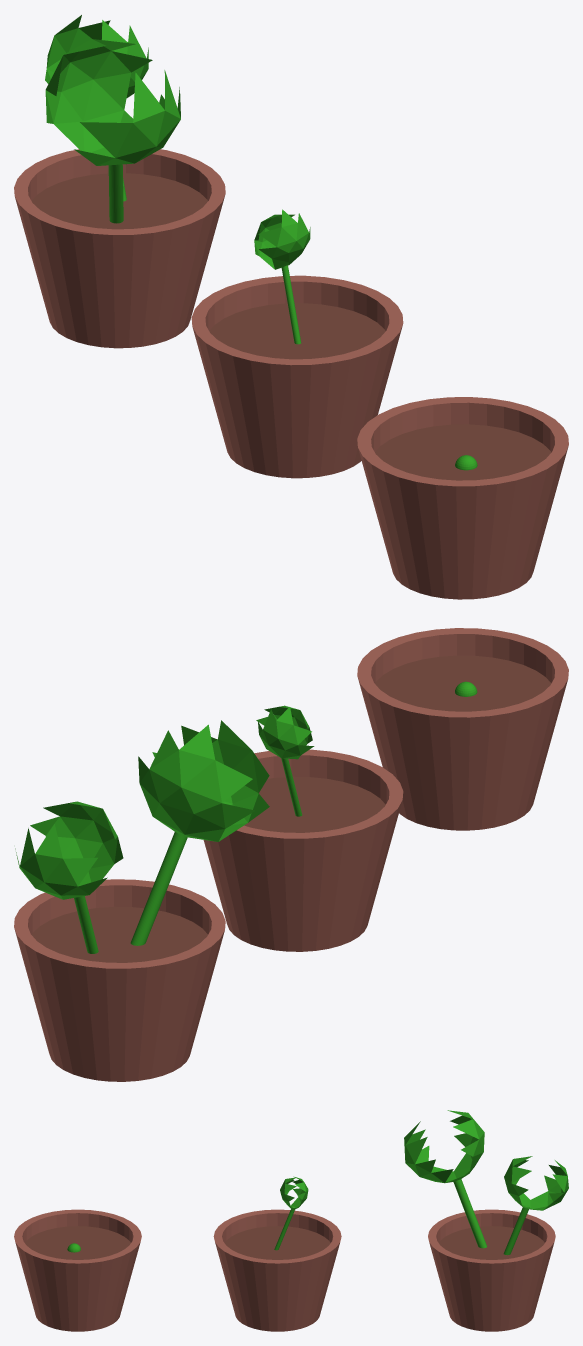
Rendered from PlantVenusVliegenvanger.fbx.
The picture shows the model from 3 angles, top to bottom: view 1: azimuth 30°, elevation 25°; view 2: azimuth 150°, elevation 25°; view 3: azimuth 270°, elevation 25°; orthographic projection. The views are drawn at different scales.
Parts seen in each view (by area): view 1: Cylinder.004, Cylinder.003, Cylinder.001, Icosphere, Icosphere.001, Icosphere.002, Cylinder; view 2: Cylinder.004, Cylinder.001, Cylinder.003, Icosphere, Icosphere.001, Icosphere.002, Cylinder, Cylinder.002; view 3: Cylinder.004, Cylinder.003, Cylinder.001, Icosphere, Icosphere.001, Cylinder, Icosphere.002, Cylinder.002.
Part boxes in pixels (left/top/right/bottom): Cylinder.004: left=357, top=397, right=568, bottom=599; Cylinder.003: left=191, top=275, right=403, bottom=478; Cylinder.001: left=14, top=149, right=225, bottom=348; Icosphere: left=45, top=39, right=180, bottom=165; Icosphere.001: left=45, top=15, right=148, bottom=97; Icosphere.002: left=254, top=209, right=310, bottom=269; Cylinder: left=108, top=164, right=123, bottom=223; Cylinder.004: left=357, top=628, right=568, bottom=830; Cylinder.001: left=14, top=879, right=225, bottom=1081; Cylinder.003: left=203, top=749, right=403, bottom=951; Icosphere: left=138, top=720, right=269, bottom=841; Icosphere.001: left=15, top=801, right=123, bottom=899; Icosphere.002: left=256, top=705, right=314, bottom=759; Cylinder: left=130, top=832, right=187, bottom=945; Cylinder.002: left=74, top=896, right=98, bottom=953; Cylinder.004: left=14, top=1209, right=141, bottom=1331; Cylinder.003: left=213, top=1209, right=341, bottom=1331; Cylinder.001: left=428, top=1209, right=555, bottom=1331; Icosphere: left=404, top=1110, right=484, bottom=1183; Icosphere.001: left=504, top=1156, right=568, bottom=1210; Cylinder: left=453, top=1179, right=487, bottom=1248; Icosphere.002: left=280, top=1176, right=308, bottom=1210; Cylinder.002: left=503, top=1205, right=529, bottom=1255.
Size of the model in its own units: 123 by 188 by 500.
